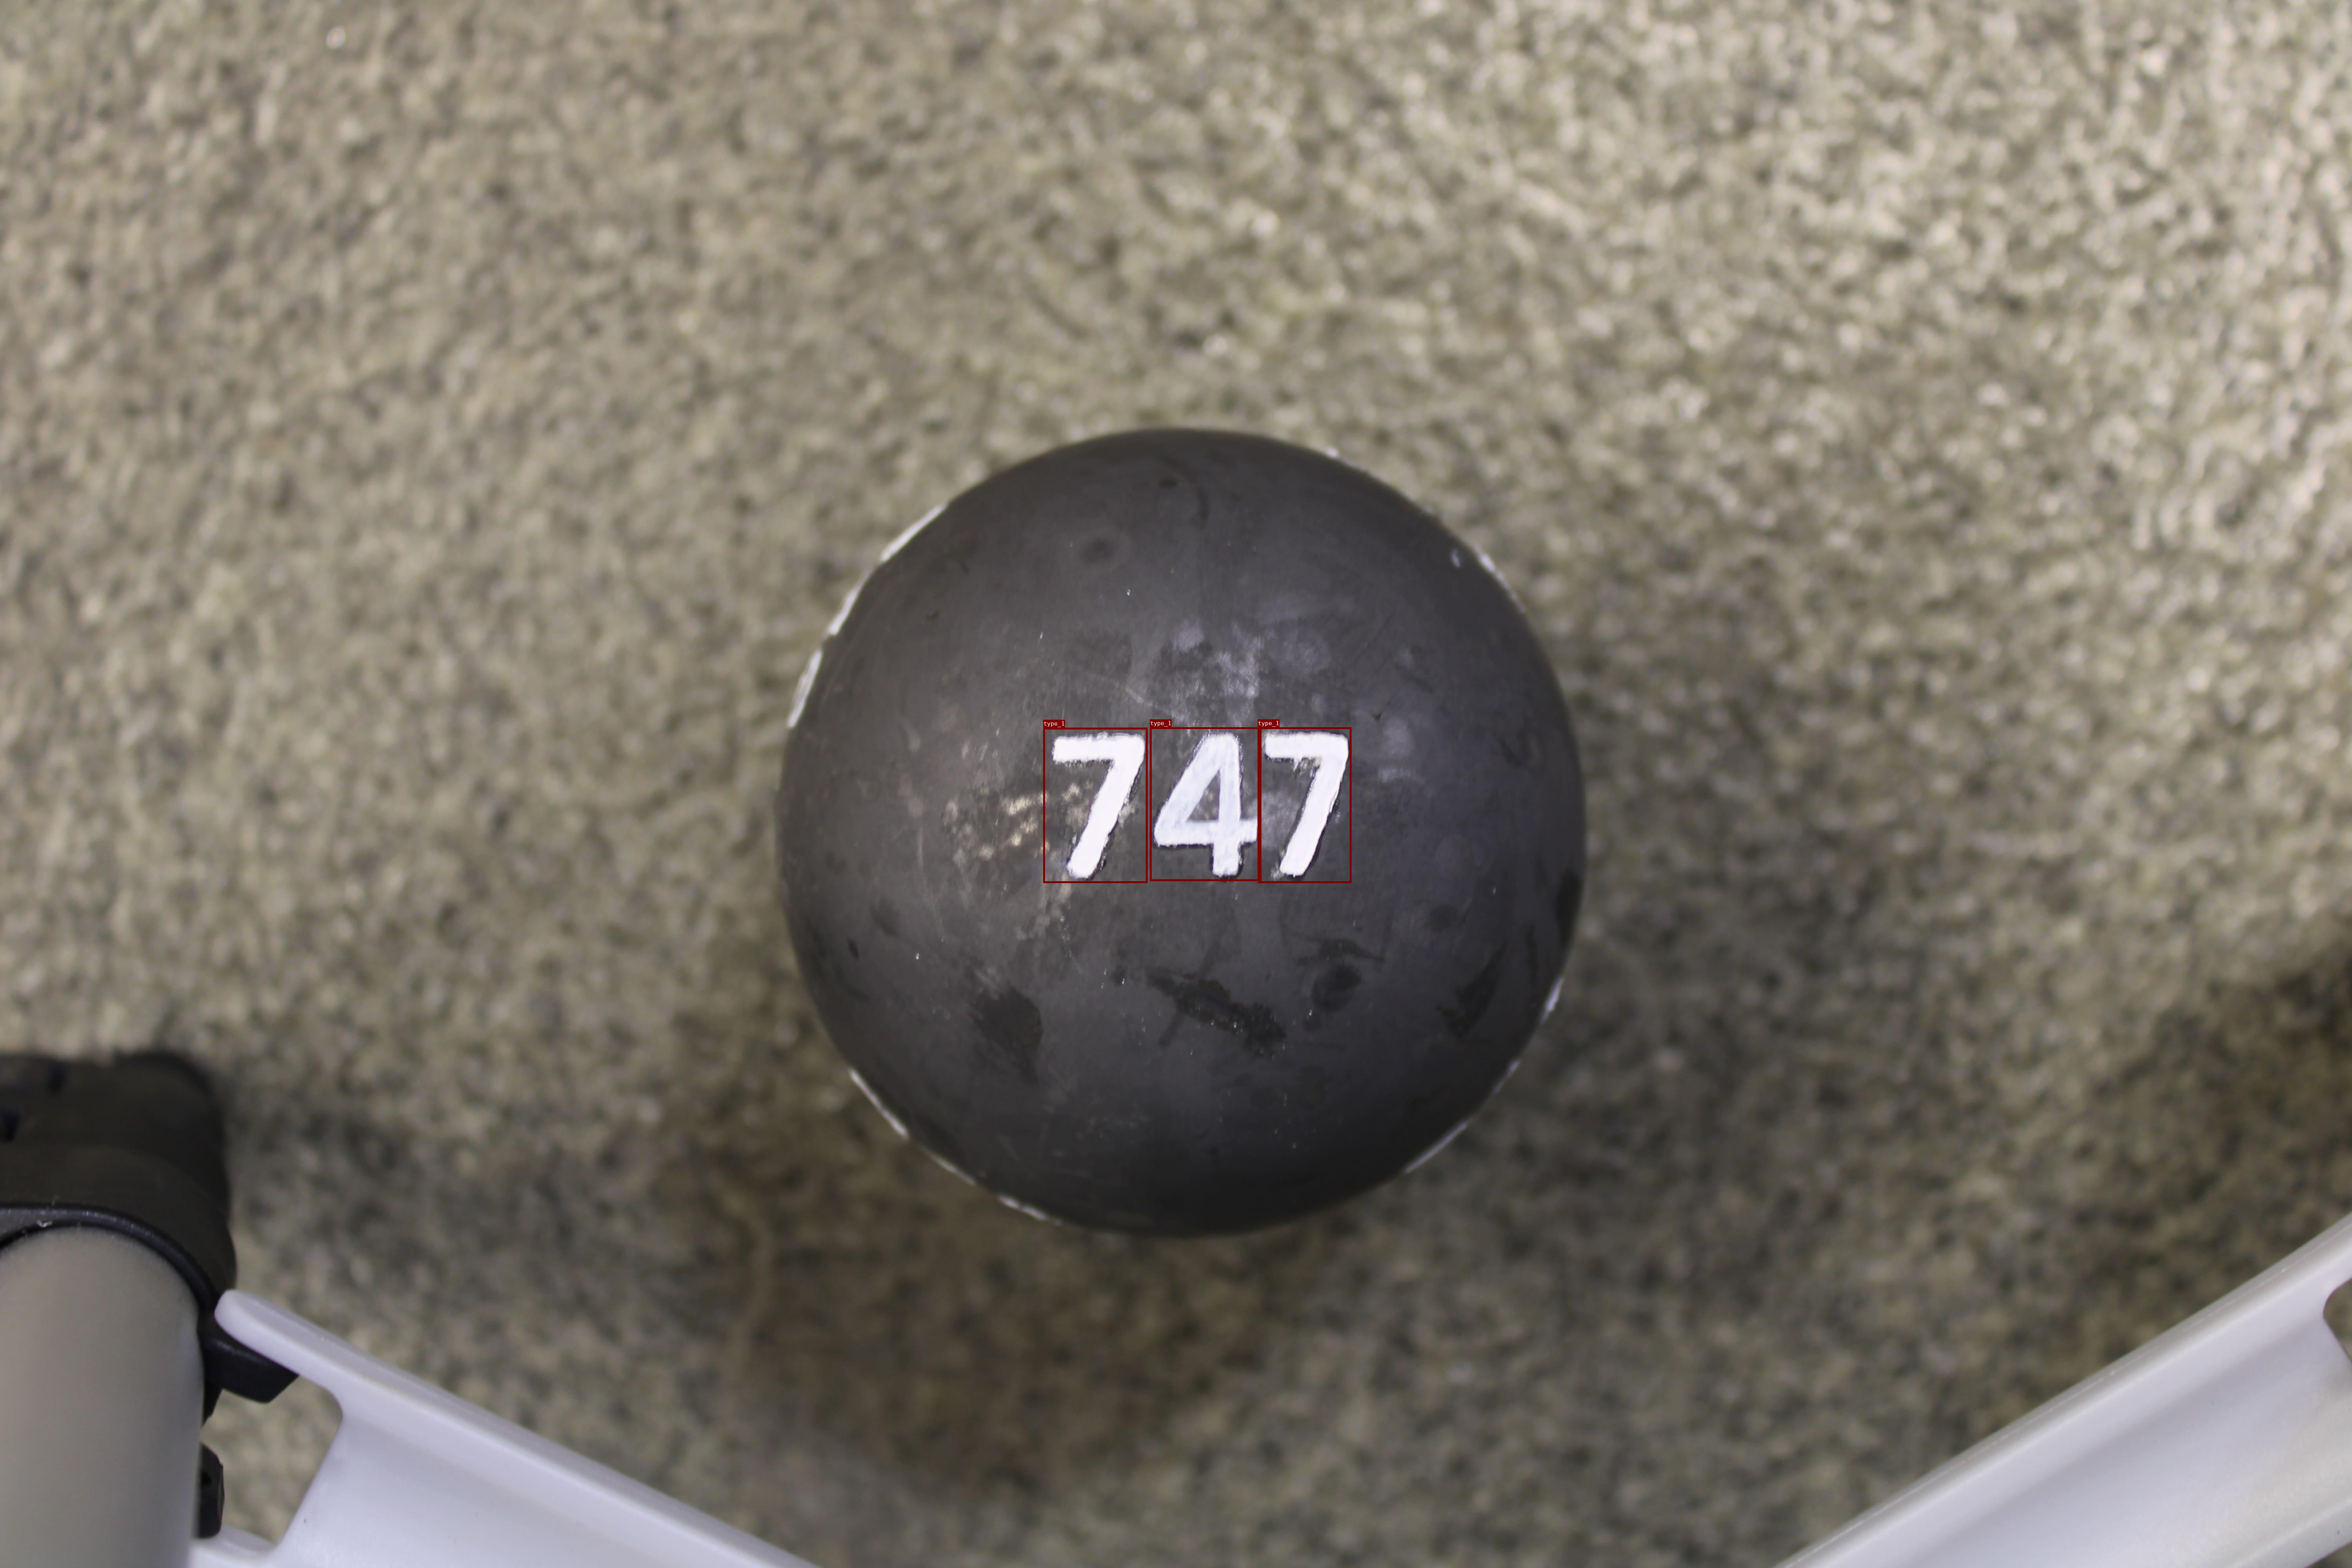type_1: (1150, 728, 1262, 880), (1043, 728, 1148, 882), (1258, 728, 1351, 882)
